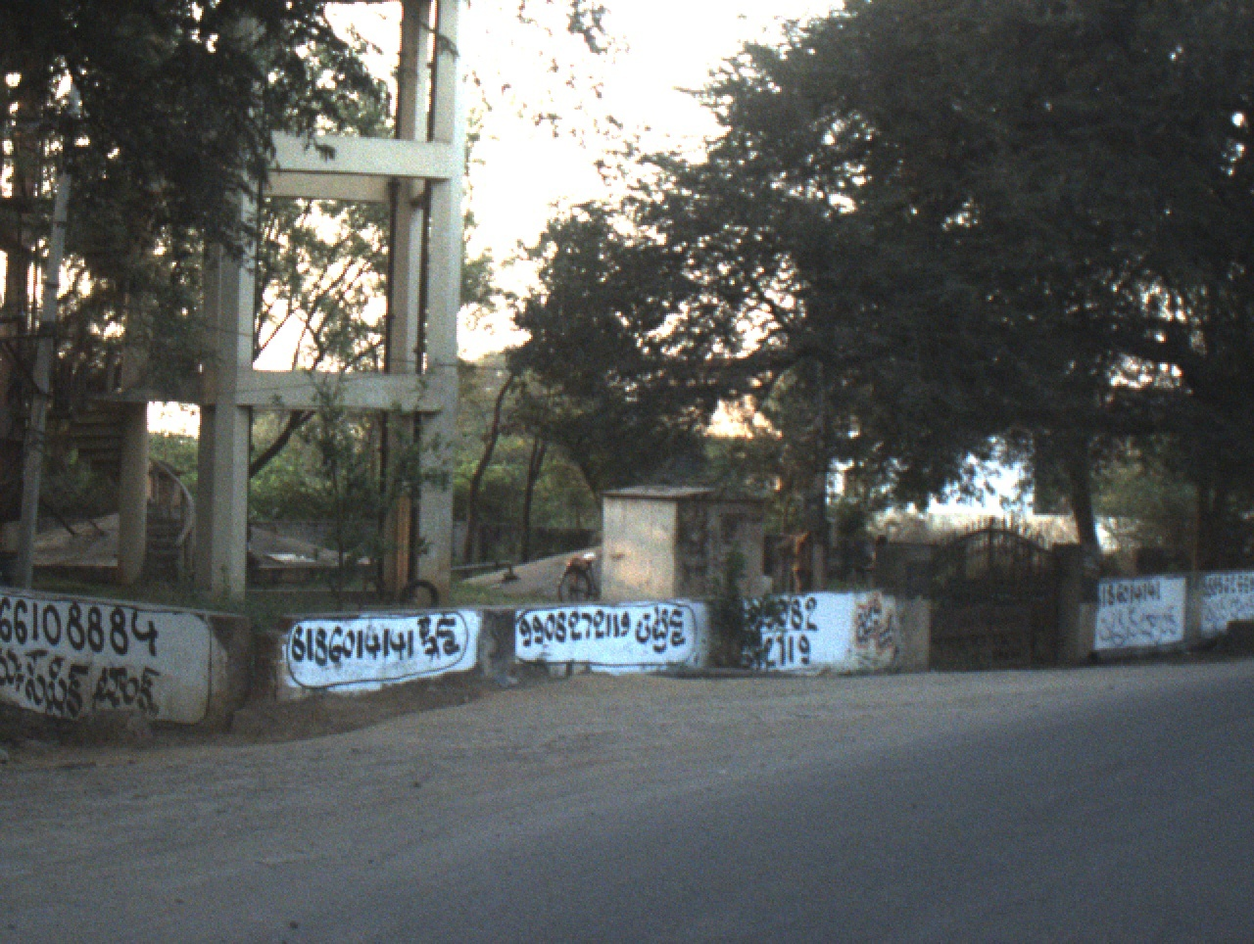bicycle: (558, 548, 599, 609)
